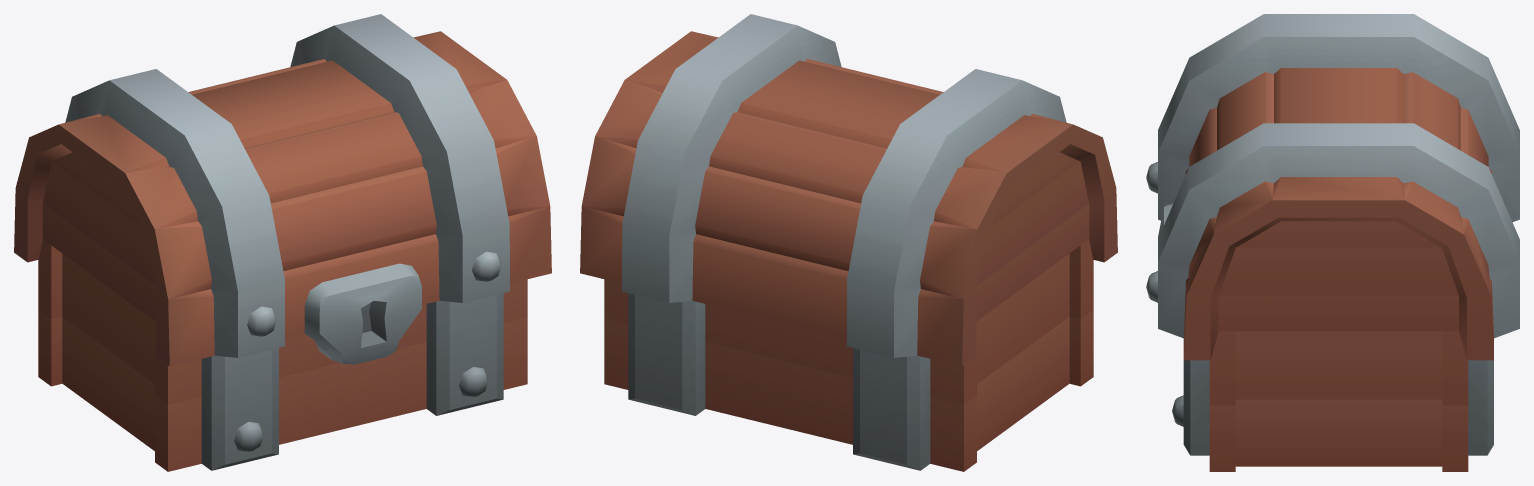
The model's file is chest.glb.
The picture shows the model from 3 angles, left to right: view 1: azimuth 30°, elevation 25°; view 2: azimuth 150°, elevation 25°; view 3: azimuth 270°, elevation 25°; orthographic projection.
Visible parts, largest first — view 1: chest; view 2: chest; view 3: chest.
Boxes of the visible parts, x1,y1,x2,y2 form: chest: (14, 14, 551, 471); chest: (580, 14, 1117, 471); chest: (1146, 14, 1519, 471).
Bounding box in the file's own units: 1.7 × 1.3 × 1.45.
Materials: 1 (1 with a texture image).
